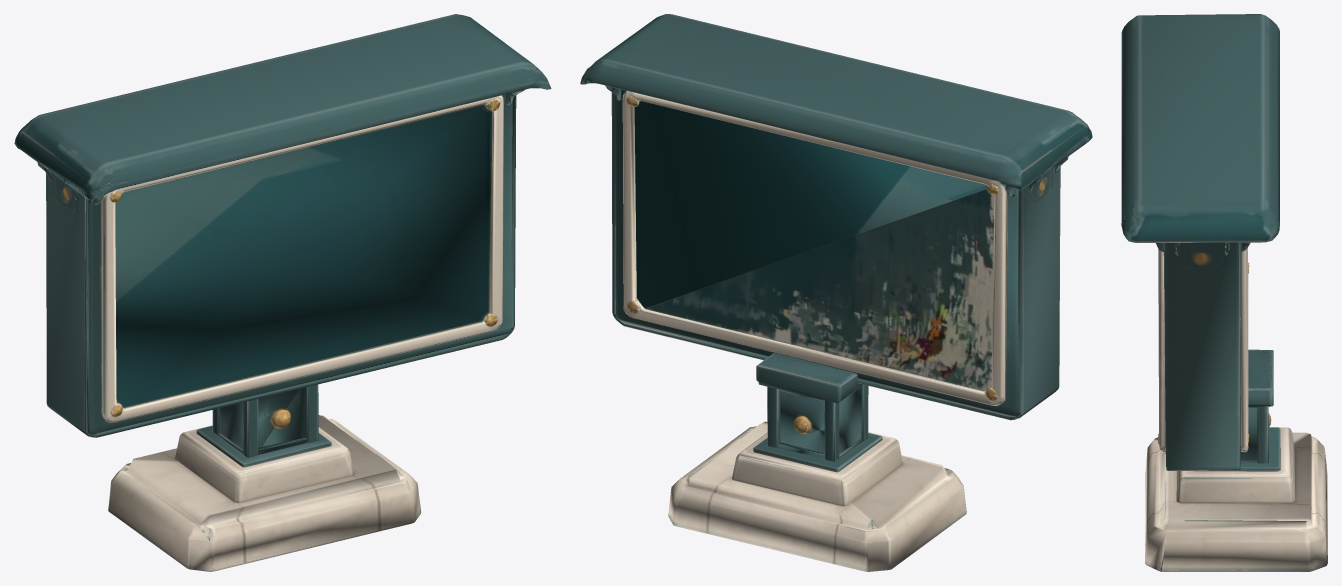
The model's file is 4c4ec810-b749-4e53-bfe8-8a2da59e7357.glb.
The picture shows the model from 3 angles, left to right: view 1: azimuth 30°, elevation 25°; view 2: azimuth 150°, elevation 25°; view 3: azimuth 270°, elevation 25°; orthographic projection. The views are drawn at different scales.
Visible parts, largest first — view 1: Mesh_0; view 2: Mesh_0; view 3: Mesh_0.
Boxes of the visible parts, x1,y1,x2,y2 form: Mesh_0: (14,14,551,571); Mesh_0: (580,14,1092,571); Mesh_0: (1121,14,1327,571).
Bounding box in the file's own units: 2.2 × 2 × 0.9173.
1 material, 1 textured.
